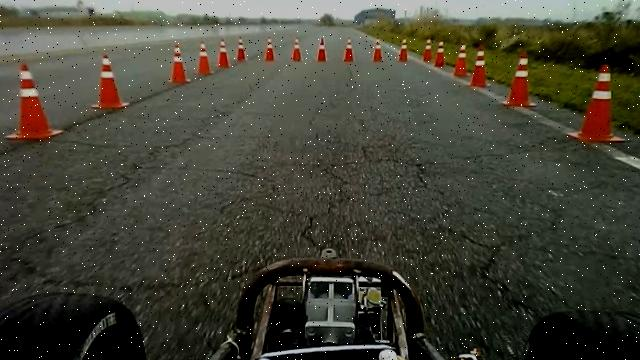red cone: (567, 63, 627, 143), (4, 62, 64, 140), (91, 54, 130, 109), (502, 51, 538, 107), (469, 43, 490, 87), (168, 44, 190, 84), (195, 40, 213, 75), (454, 44, 468, 78), (217, 38, 230, 69), (343, 35, 355, 61), (434, 40, 445, 67), (236, 36, 247, 61), (372, 38, 383, 62), (318, 37, 328, 62), (265, 36, 275, 61), (292, 37, 302, 61), (423, 38, 433, 62), (398, 38, 408, 61)
